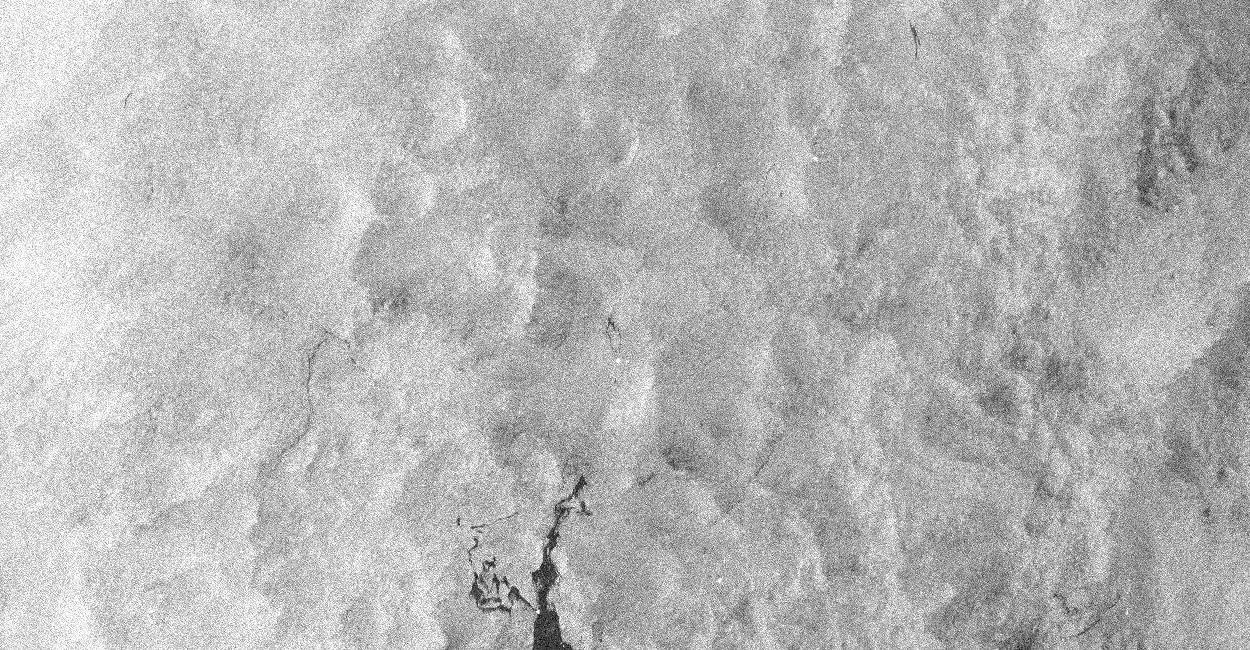Oil Spill: (466, 470, 594, 650), (602, 314, 624, 354), (908, 20, 922, 60), (464, 536, 480, 566), (468, 522, 488, 536), (500, 584, 510, 604), (504, 508, 520, 520), (492, 516, 504, 524), (454, 516, 461, 528), (490, 602, 494, 605)
